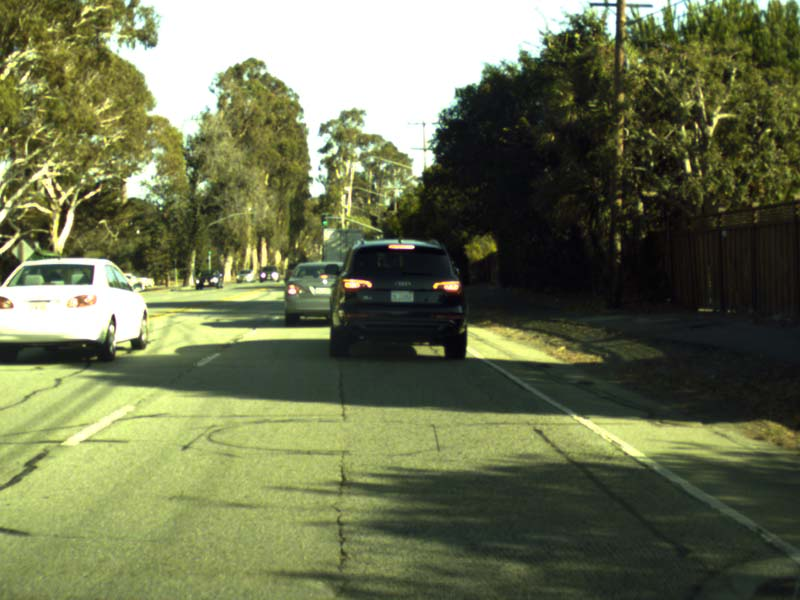Green: (322, 212, 327, 226), (207, 249, 212, 255)
